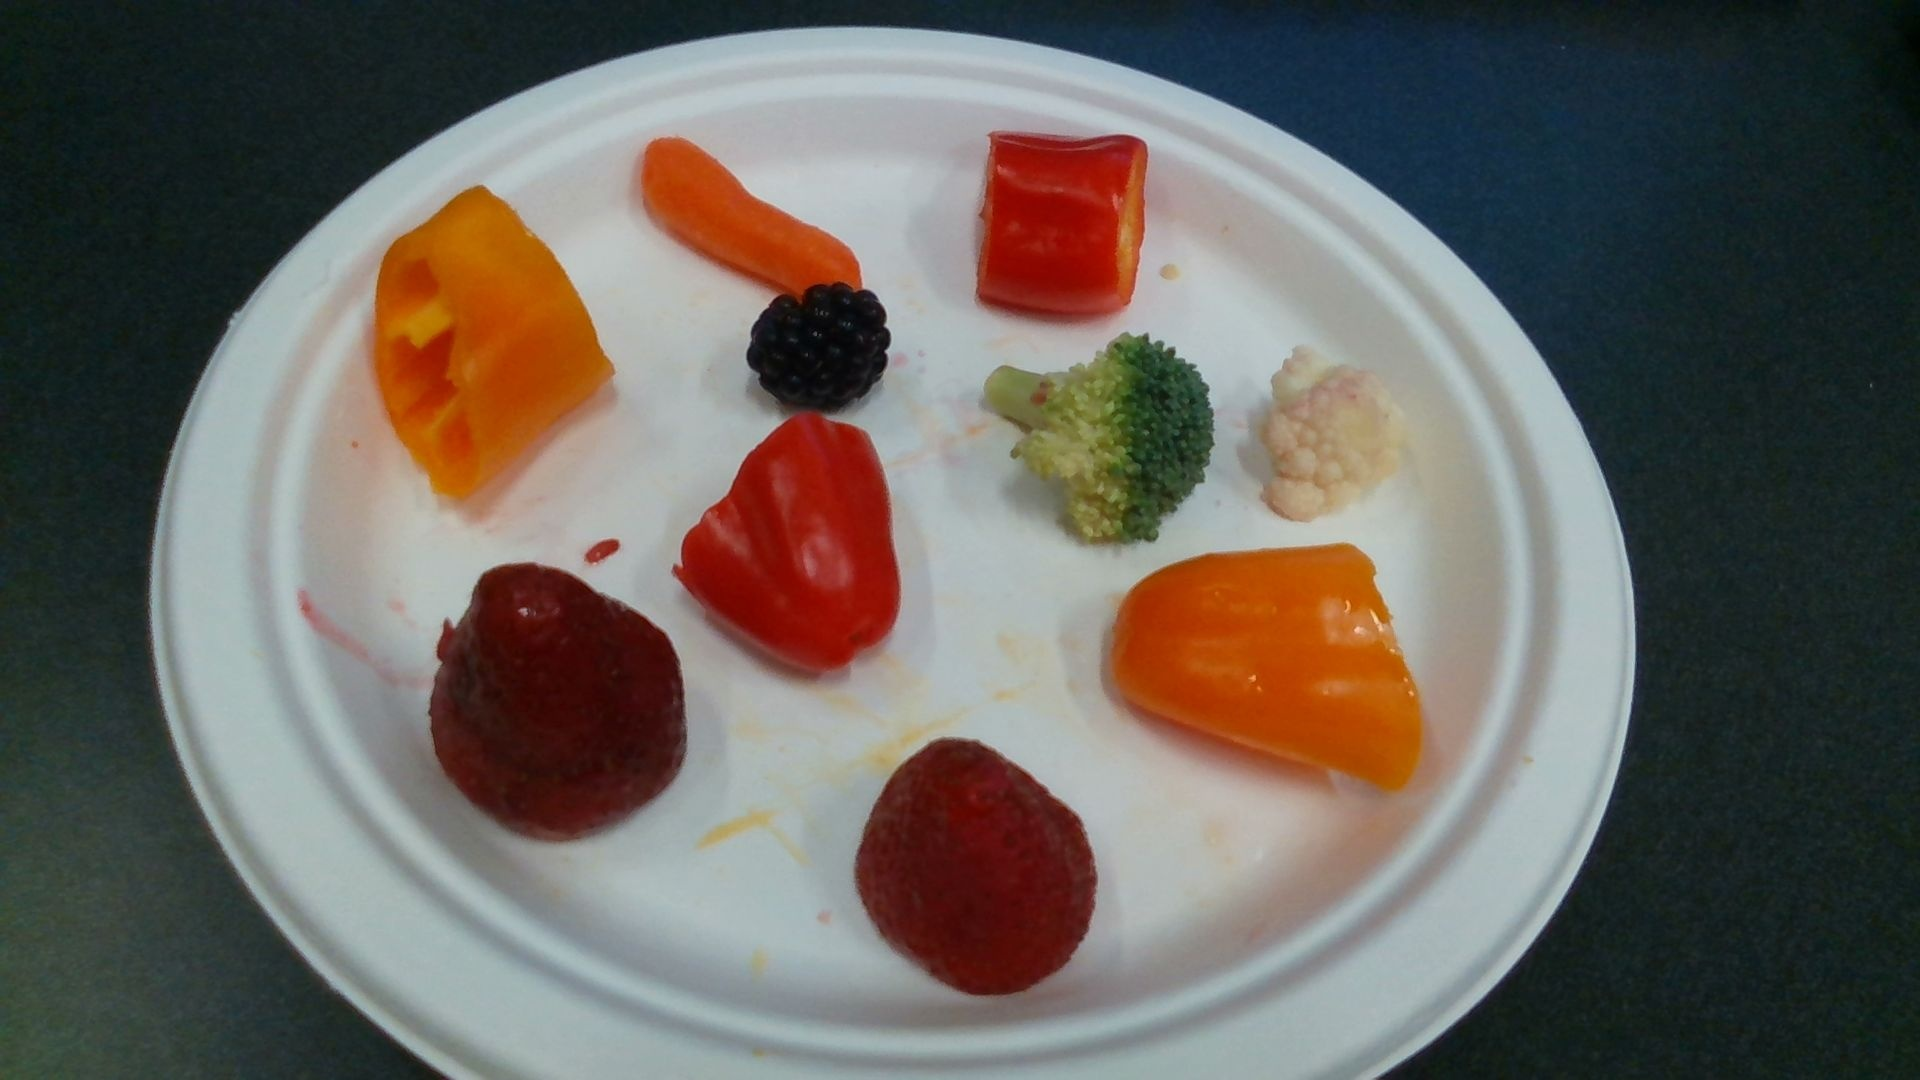bell_pepper: (1116, 546, 1420, 786), (377, 190, 611, 498), (676, 415, 899, 675), (977, 133, 1145, 315)
blackberry: (750, 290, 889, 405)
broccoli: (986, 340, 1212, 545)
carrot: (640, 140, 864, 295)
cauliflower: (1267, 345, 1399, 524)
strawberry: (434, 566, 684, 837), (860, 741, 1095, 993)
